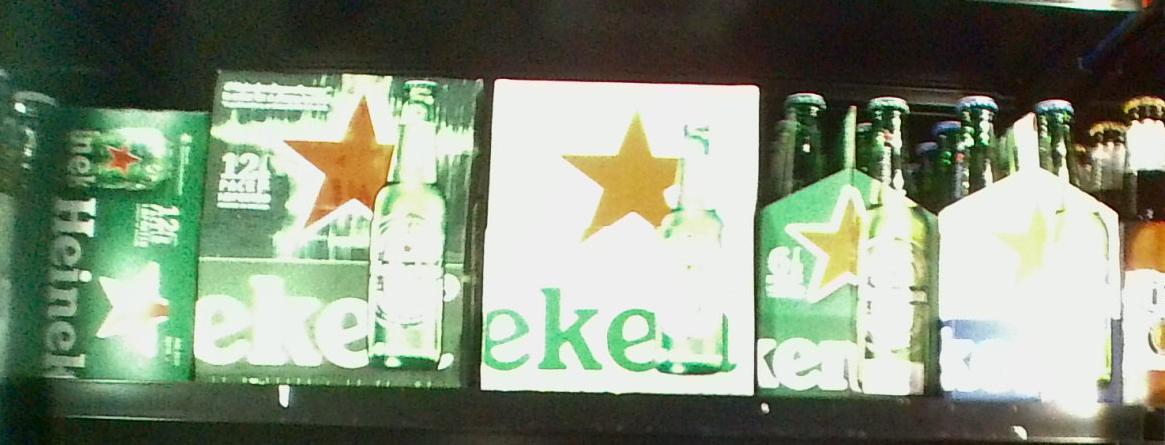bottle: (490, 80, 755, 394), (212, 70, 469, 391), (935, 88, 1122, 398), (763, 87, 938, 395), (43, 107, 194, 378)
